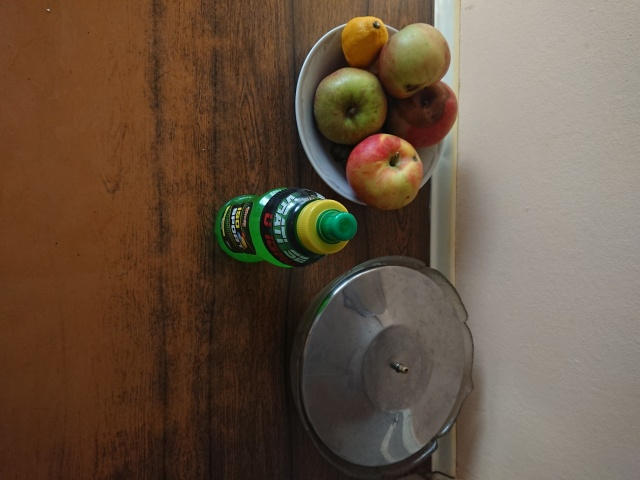Vindi Iso Sport Lemon-Grapefruit 500mL: (211, 184, 360, 271)
